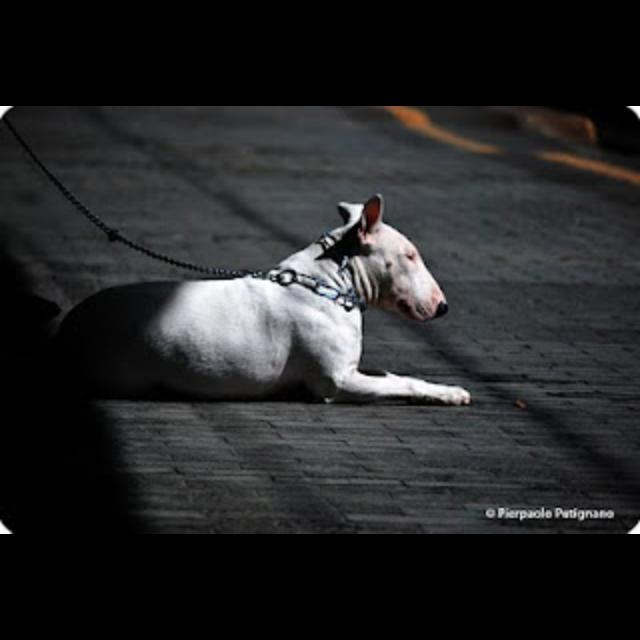bullterrier: (53, 193, 473, 407)
